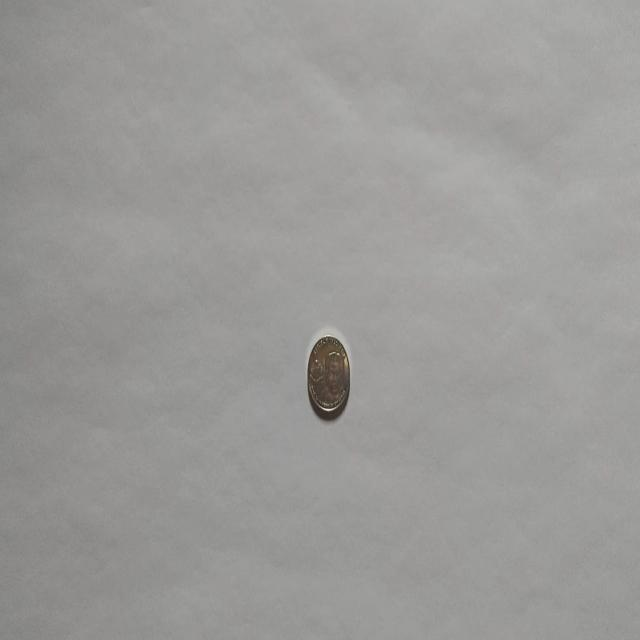seratus rupiah: (306, 333, 350, 418)
